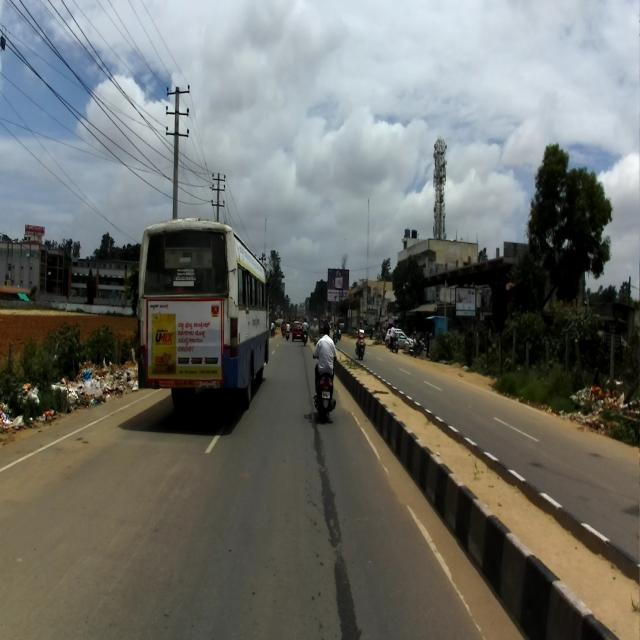bus: (136, 218, 272, 406)
scooter: (312, 354, 338, 421)
